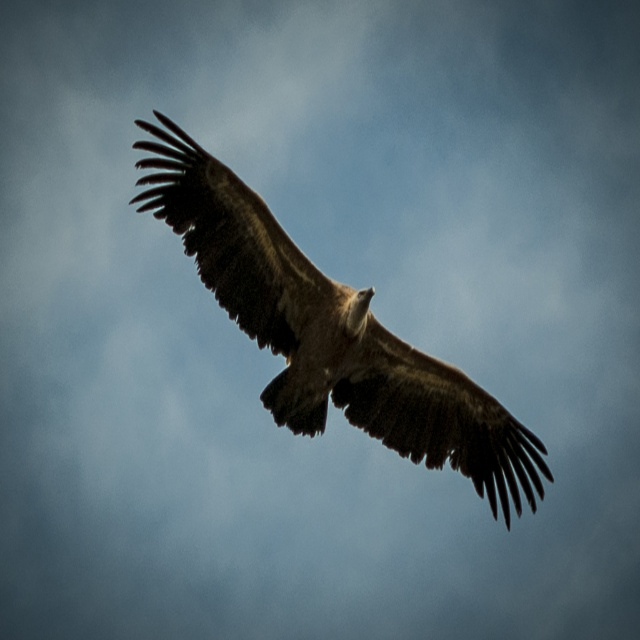Eagle: (125, 105, 563, 552)
